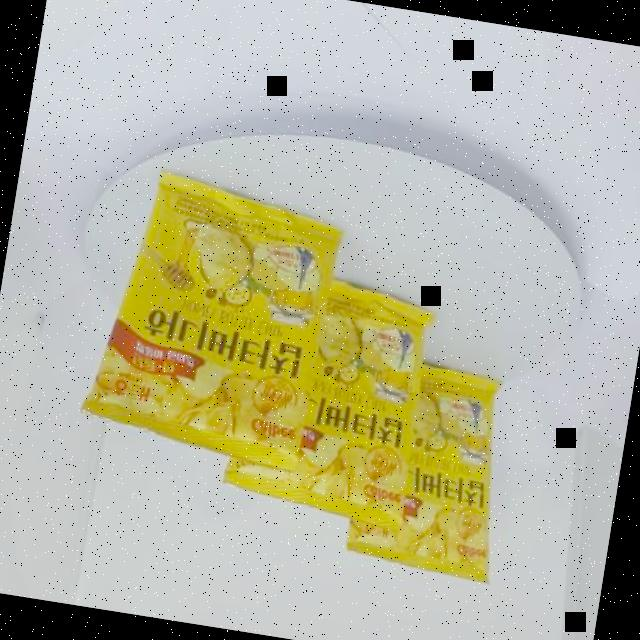snack_bag: (48, 150, 563, 598)
